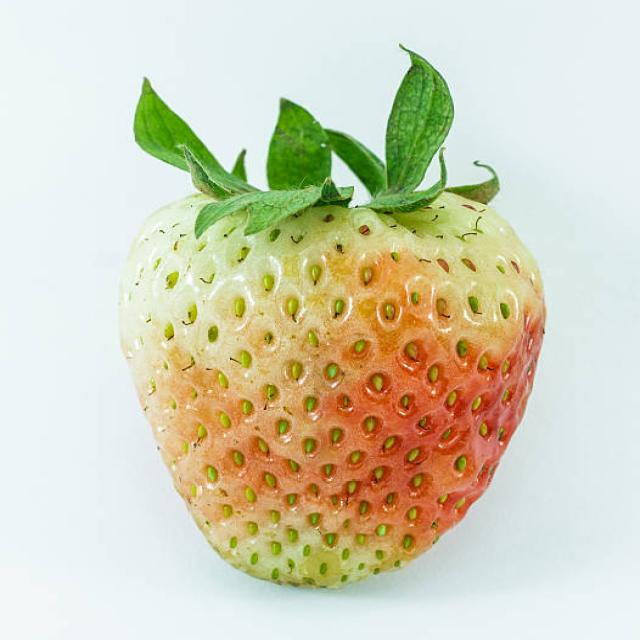Healthy Fruit: (119, 188, 544, 588)
